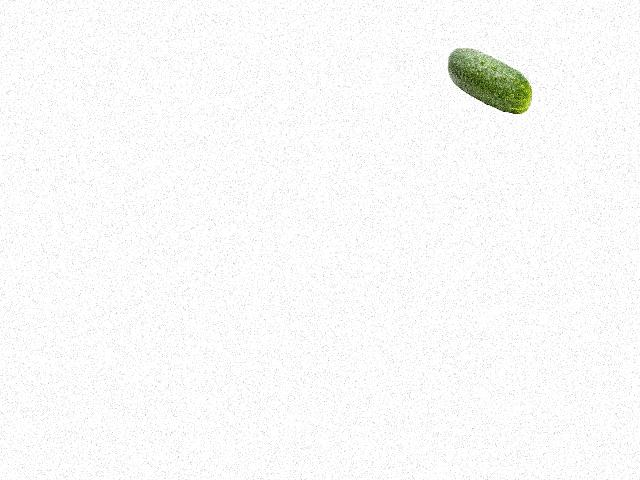cucumber: (447, 47, 531, 113)
